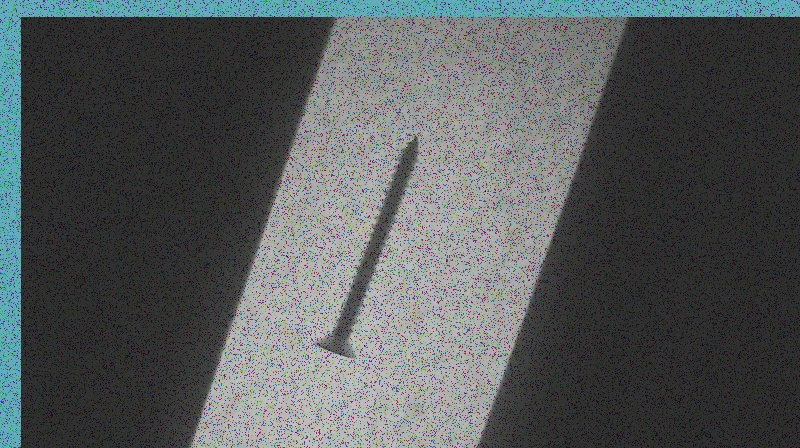S002: (310, 133, 421, 361)
